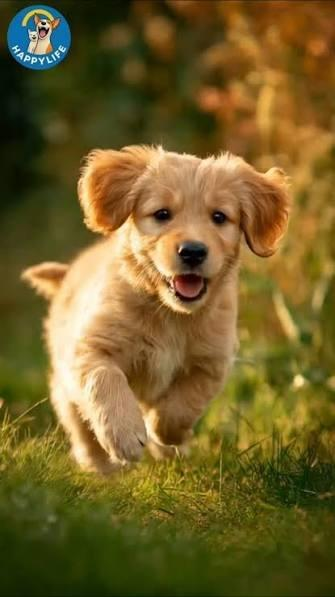puppy-dog: (20, 142, 295, 478)
